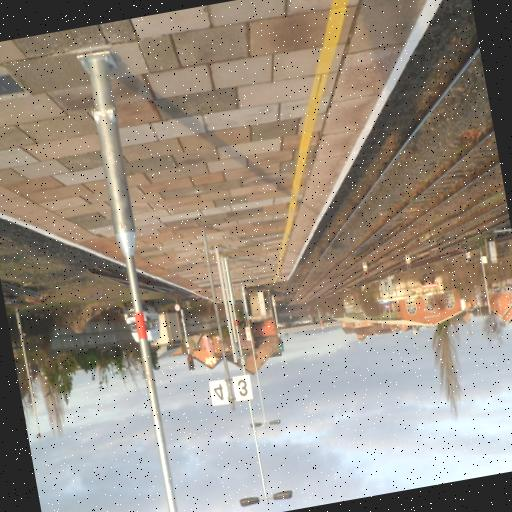platform_edge: (260, 0, 477, 161), (253, 190, 332, 288)
